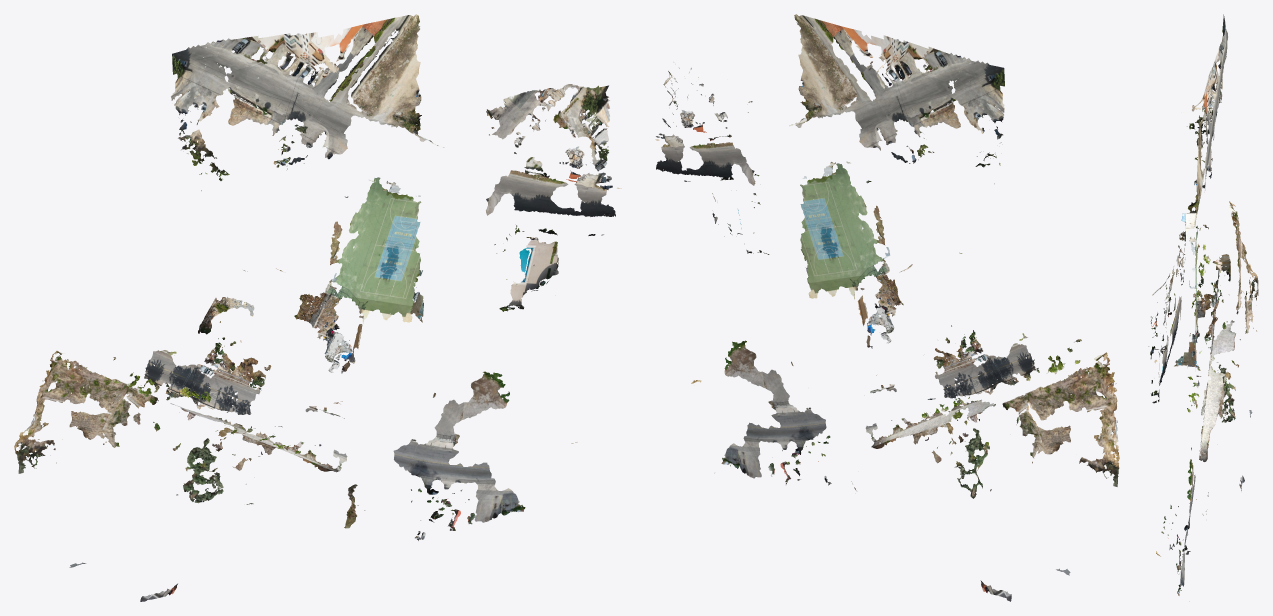
File: tile_0.glb
3 views of the same model, side by side, from view 1: azimuth 30°, elevation 25°; view 2: azimuth 150°, elevation 25°; view 3: azimuth 270°, elevation 25° (orthographic). The views are drawn at different scales.
Size of the model in its own units: 172 by 166 by 34.68.
Materials: 1 (1 with a texture image).
